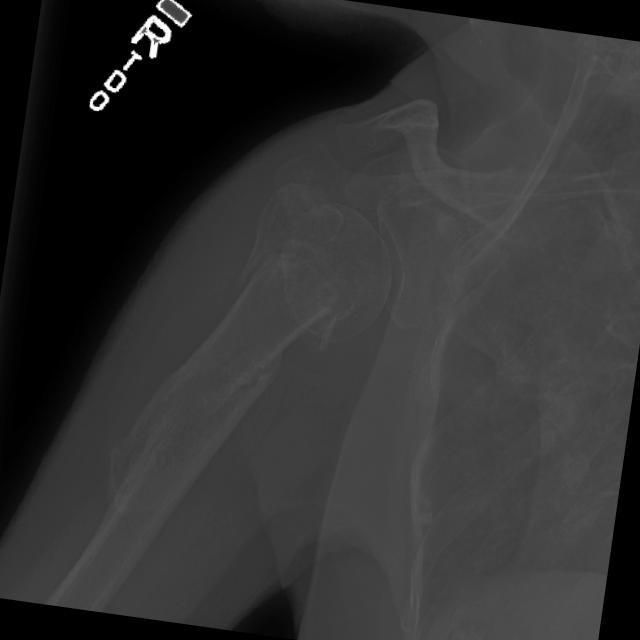shoulder fracture: (60, 286, 340, 605)
